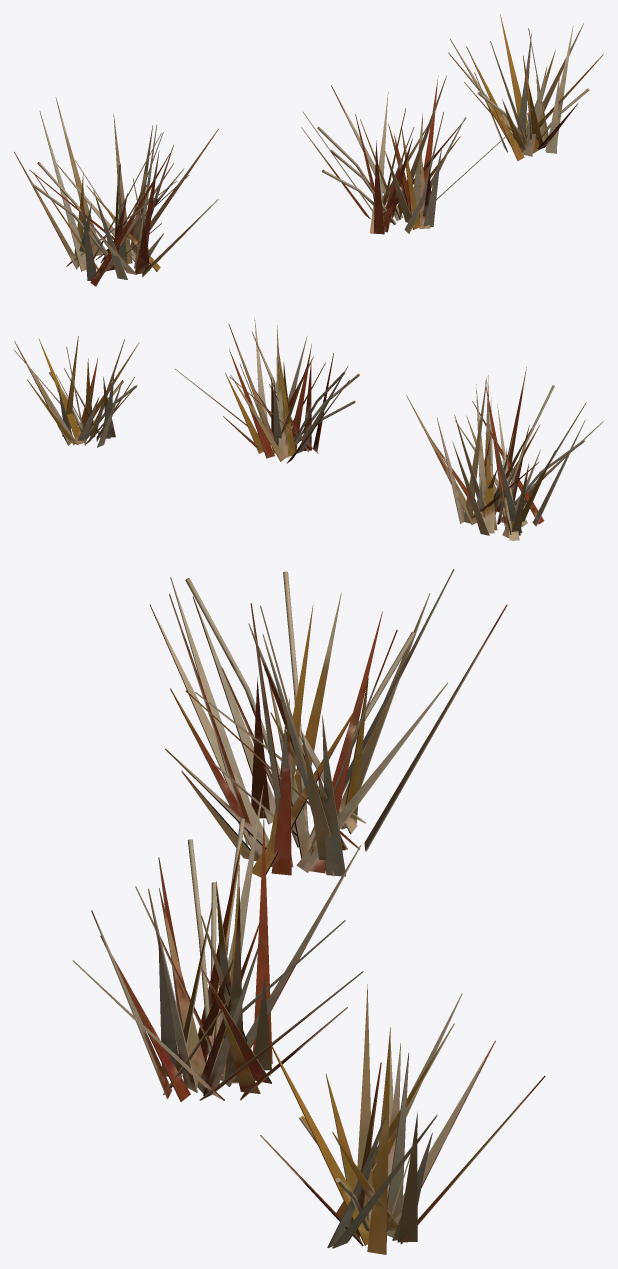
Rendered from dry_brush.glb.
The picture shows the model from 3 angles, top to bottom: view 1: azimuth 30°, elevation 25°; view 2: azimuth 150°, elevation 25°; view 3: azimuth 270°, elevation 25°; orthographic projection. The views are drawn at different scales.
Visible parts, largest first — view 1: dry_brush; view 2: dry_brush; view 3: dry_brush.
Part boxes in pixels (x1=…): dry_brush: x1=14, y1=14, x2=603, y2=286; dry_brush: x1=14, y1=317, x2=603, y2=540; dry_brush: x1=72, y1=569, x2=545, y2=1254.
Bounding box in the file's own units: 1.97 × 0.4735 × 0.7498.
Materials: 1 (1 with a texture image).
